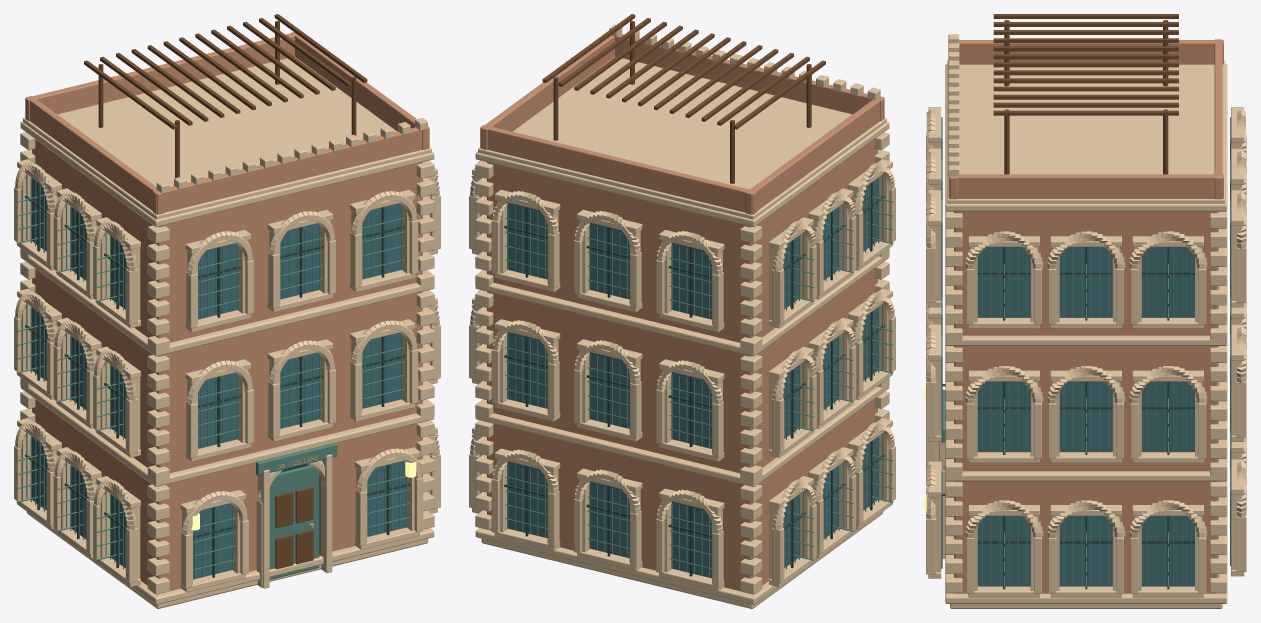
File: maroc-3.glb
3 renders of one model, left to right at view 1: azimuth 30°, elevation 25°; view 2: azimuth 150°, elevation 25°; view 3: azimuth 270°, elevation 25°, orthographic. The views are drawn at different scales.
Visible parts, largest first — view 1: maroc-3_Dressed stone.005, maroc-3_Masonry plaster.005, maroc-3_Window blue, maroc-3_Regional painted wood.005, maroc-3_Walnut, maroc-3_Forged midnight; view 2: maroc-3_Dressed stone.005, maroc-3_Masonry plaster.005, maroc-3_Window blue, maroc-3_Regional painted wood.005, maroc-3_Walnut, maroc-3_Forged midnight; view 3: maroc-3_Dressed stone.005, maroc-3_Masonry plaster.005, maroc-3_Window blue, maroc-3_Walnut, maroc-3_Regional painted wood.005, maroc-3_Forged midnight.
Part boxes in pixels (x1,y1,x2,y2): maroc-3_Dressed stone.005: (14, 56, 440, 608); maroc-3_Masonry plaster.005: (25, 32, 429, 590); maroc-3_Window blue: (31, 177, 406, 579); maroc-3_Regional painted wood.005: (16, 175, 438, 579); maroc-3_Walnut: (84, 14, 367, 569); maroc-3_Forged midnight: (25, 182, 410, 577); maroc-3_Dressed stone.005: (469, 24, 895, 608); maroc-3_Masonry plaster.005: (480, 34, 884, 590); maroc-3_Window blue: (507, 177, 878, 577); maroc-3_Regional painted wood.005: (471, 175, 893, 577); maroc-3_Walnut: (542, 14, 825, 183); maroc-3_Forged midnight: (504, 182, 884, 576); maroc-3_Dressed stone.005: (926, 34, 1246, 608); maroc-3_Masonry plaster.005: (948, 39, 1223, 593); maroc-3_Window blue: (941, 117, 1230, 586); maroc-3_Walnut: (993, 14, 1178, 174); maroc-3_Regional painted wood.005: (941, 249, 1191, 587); maroc-3_Forged midnight: (942, 247, 1194, 589).
Size of the model in its own units: 15.5 by 19.87 by 12.18.
